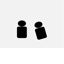human: (32, 19, 48, 40), (15, 18, 28, 38)
